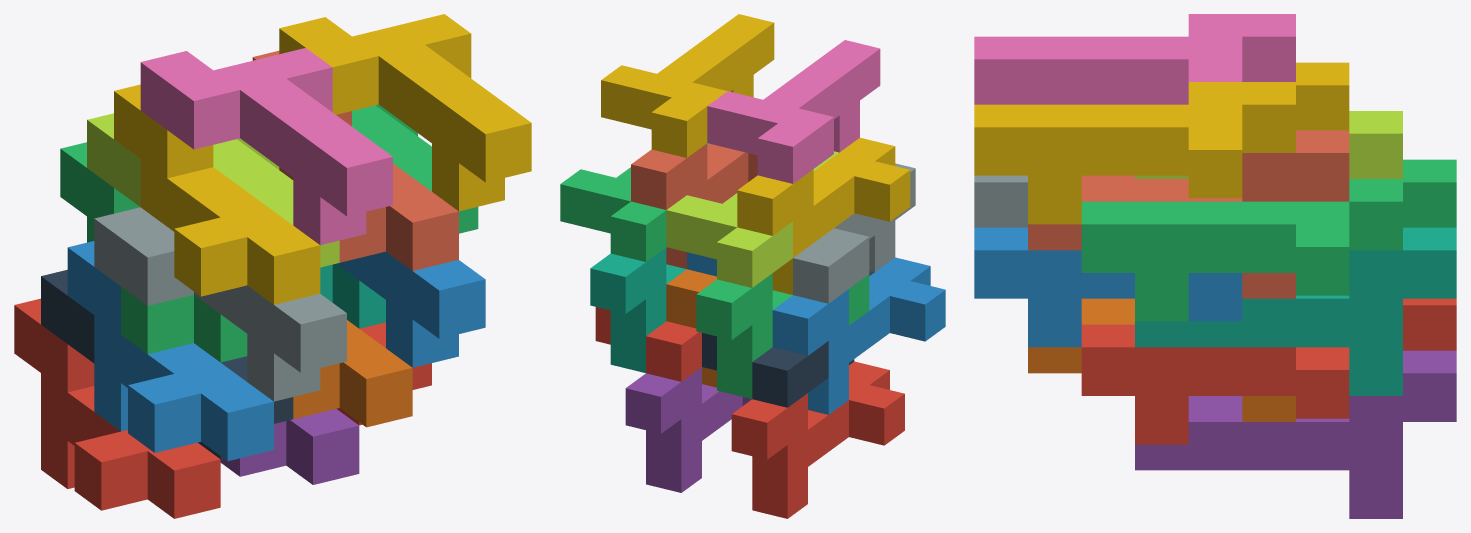
Rendered from tiling.obj.
The picture shows the model from 3 angles, left to right: view 1: azimuth 30°, elevation 25°; view 2: azimuth 150°, elevation 25°; view 3: azimuth 270°, elevation 25°; orthographic projection. The views are drawn at different scales.
Visible parts, largest first — view 1: copy_2_domain_4, copy_2_domain_8, copy_1_domain_4, copy_1_domain_2, copy_1_domain_1, copy_2_domain_2, copy_2_domain_6, copy_1_domain_3, copy_1_domain_8, copy_2_domain_3, copy_1_domain_6, copy_1_domain_5 (+4 smaller); view 2: copy_2_domain_4, copy_1_domain_1, copy_2_domain_8, copy_1_domain_2, copy_1_domain_4, copy_1_domain_5, copy_1_domain_3, copy_2_domain_3, copy_1_domain_7, copy_1_domain_8, copy_2_domain_2, copy_2_domain_7 (+4 smaller); view 3: copy_2_domain_8, copy_2_domain_7, copy_2_domain_4, copy_1_domain_5, copy_1_domain_7, copy_2_domain_5, copy_2_domain_6, copy_1_domain_8, copy_1_domain_6, copy_2_domain_3, copy_1_domain_3, copy_1_domain_4 (+2 smaller).
Part boxes in pixels (x1=…): copy_2_domain_4: x1=140, y1=48, x2=392, y2=245; copy_2_domain_8: x1=279, y1=14, x2=531, y2=211; copy_1_domain_4: x1=114, y1=84, x2=320, y2=304; copy_1_domain_2: x1=67, y1=241, x2=273, y2=460; copy_1_domain_1: x1=14, y1=298, x2=220, y2=518; copy_2_domain_2: x1=94, y1=207, x2=346, y2=401; copy_2_domain_6: x1=337, y1=251, x2=485, y2=367; copy_1_domain_3: x1=60, y1=142, x2=247, y2=362; copy_1_domain_8: x1=252, y1=50, x2=458, y2=270; copy_2_domain_3: x1=87, y1=113, x2=339, y2=267; copy_1_domain_6: x1=293, y1=320, x2=412, y2=427; copy_1_domain_5: x1=220, y1=409, x2=359, y2=484; copy_2_domain_4: x1=707, y1=40, x2=880, y2=183; copy_1_domain_1: x1=731, y1=361, x2=904, y2=518; copy_2_domain_8: x1=601, y1=14, x2=774, y2=157; copy_1_domain_2: x1=772, y1=257, x2=945, y2=414; copy_1_domain_4: x1=737, y1=137, x2=910, y2=294; copy_1_domain_5: x1=625, y1=367, x2=751, y2=492; copy_1_domain_3: x1=696, y1=273, x2=869, y2=398; copy_2_domain_3: x1=666, y1=151, x2=838, y2=287; copy_1_domain_7: x1=590, y1=247, x2=686, y2=372; copy_1_domain_8: x1=631, y1=143, x2=757, y2=268; copy_2_domain_2: x1=793, y1=163, x2=915, y2=303; copy_2_domain_7: x1=560, y1=143, x2=709, y2=261; copy_2_domain_8: x1=974, y1=82, x2=1295, y2=224; copy_2_domain_7: x1=1081, y1=179, x2=1402, y2=321; copy_2_domain_4: x1=974, y1=14, x2=1295, y2=104; copy_1_domain_5: x1=1135, y1=350, x2=1456, y2=518; copy_1_domain_7: x1=1135, y1=227, x2=1456, y2=395; copy_2_domain_5: x1=1081, y1=324, x2=1349, y2=444; copy_2_domain_6: x1=974, y1=227, x2=1242, y2=347; copy_1_domain_8: x1=1028, y1=130, x2=1349, y2=298; copy_1_domain_6: x1=1028, y1=298, x2=1295, y2=421; copy_2_domain_3: x1=1135, y1=111, x2=1402, y2=178; copy_1_domain_3: x1=1403, y1=159, x2=1456, y2=227; copy_1_domain_4: x1=1296, y1=62, x2=1349, y2=130.
Bounding box in the file's own units: 8 × 9 × 9.
